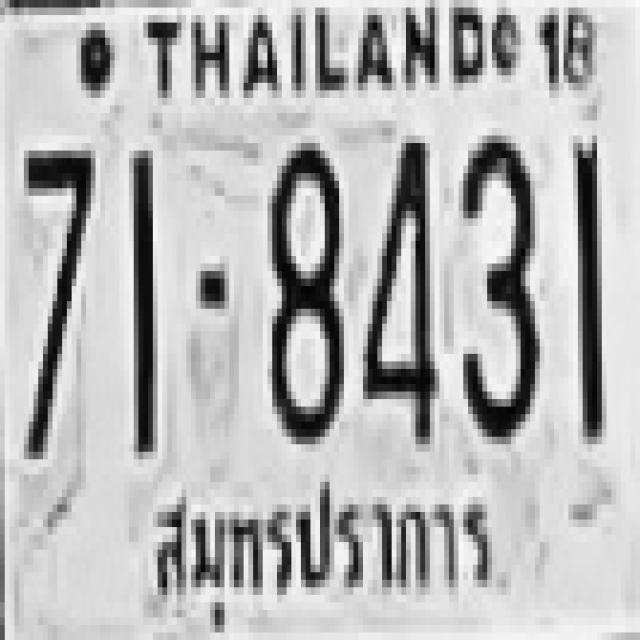1: (571, 140, 599, 440), (129, 147, 153, 448)
3: (458, 128, 535, 437)
4: (358, 128, 435, 437)
7: (19, 143, 91, 452)
8: (268, 136, 339, 437)
SamutPrakan: (141, 479, 499, 617)
